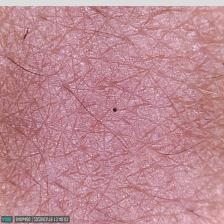Normal: (0, 10, 224, 213)
